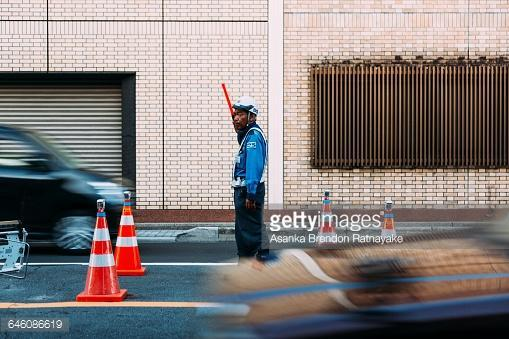Cone: (76, 199, 126, 301), (114, 198, 145, 275)
No glasses: (230, 109, 247, 117)
